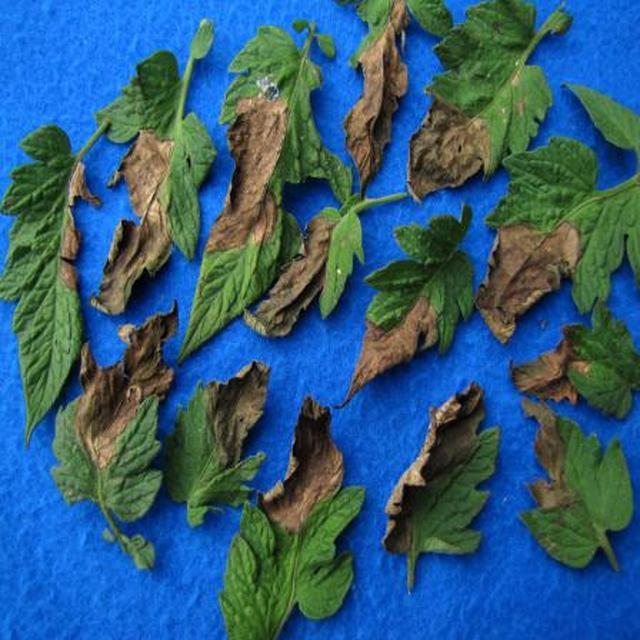Late Blight Leaf: (70, 132, 640, 640)
